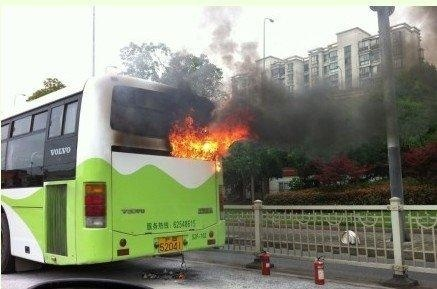fire: (166, 112, 251, 158)
